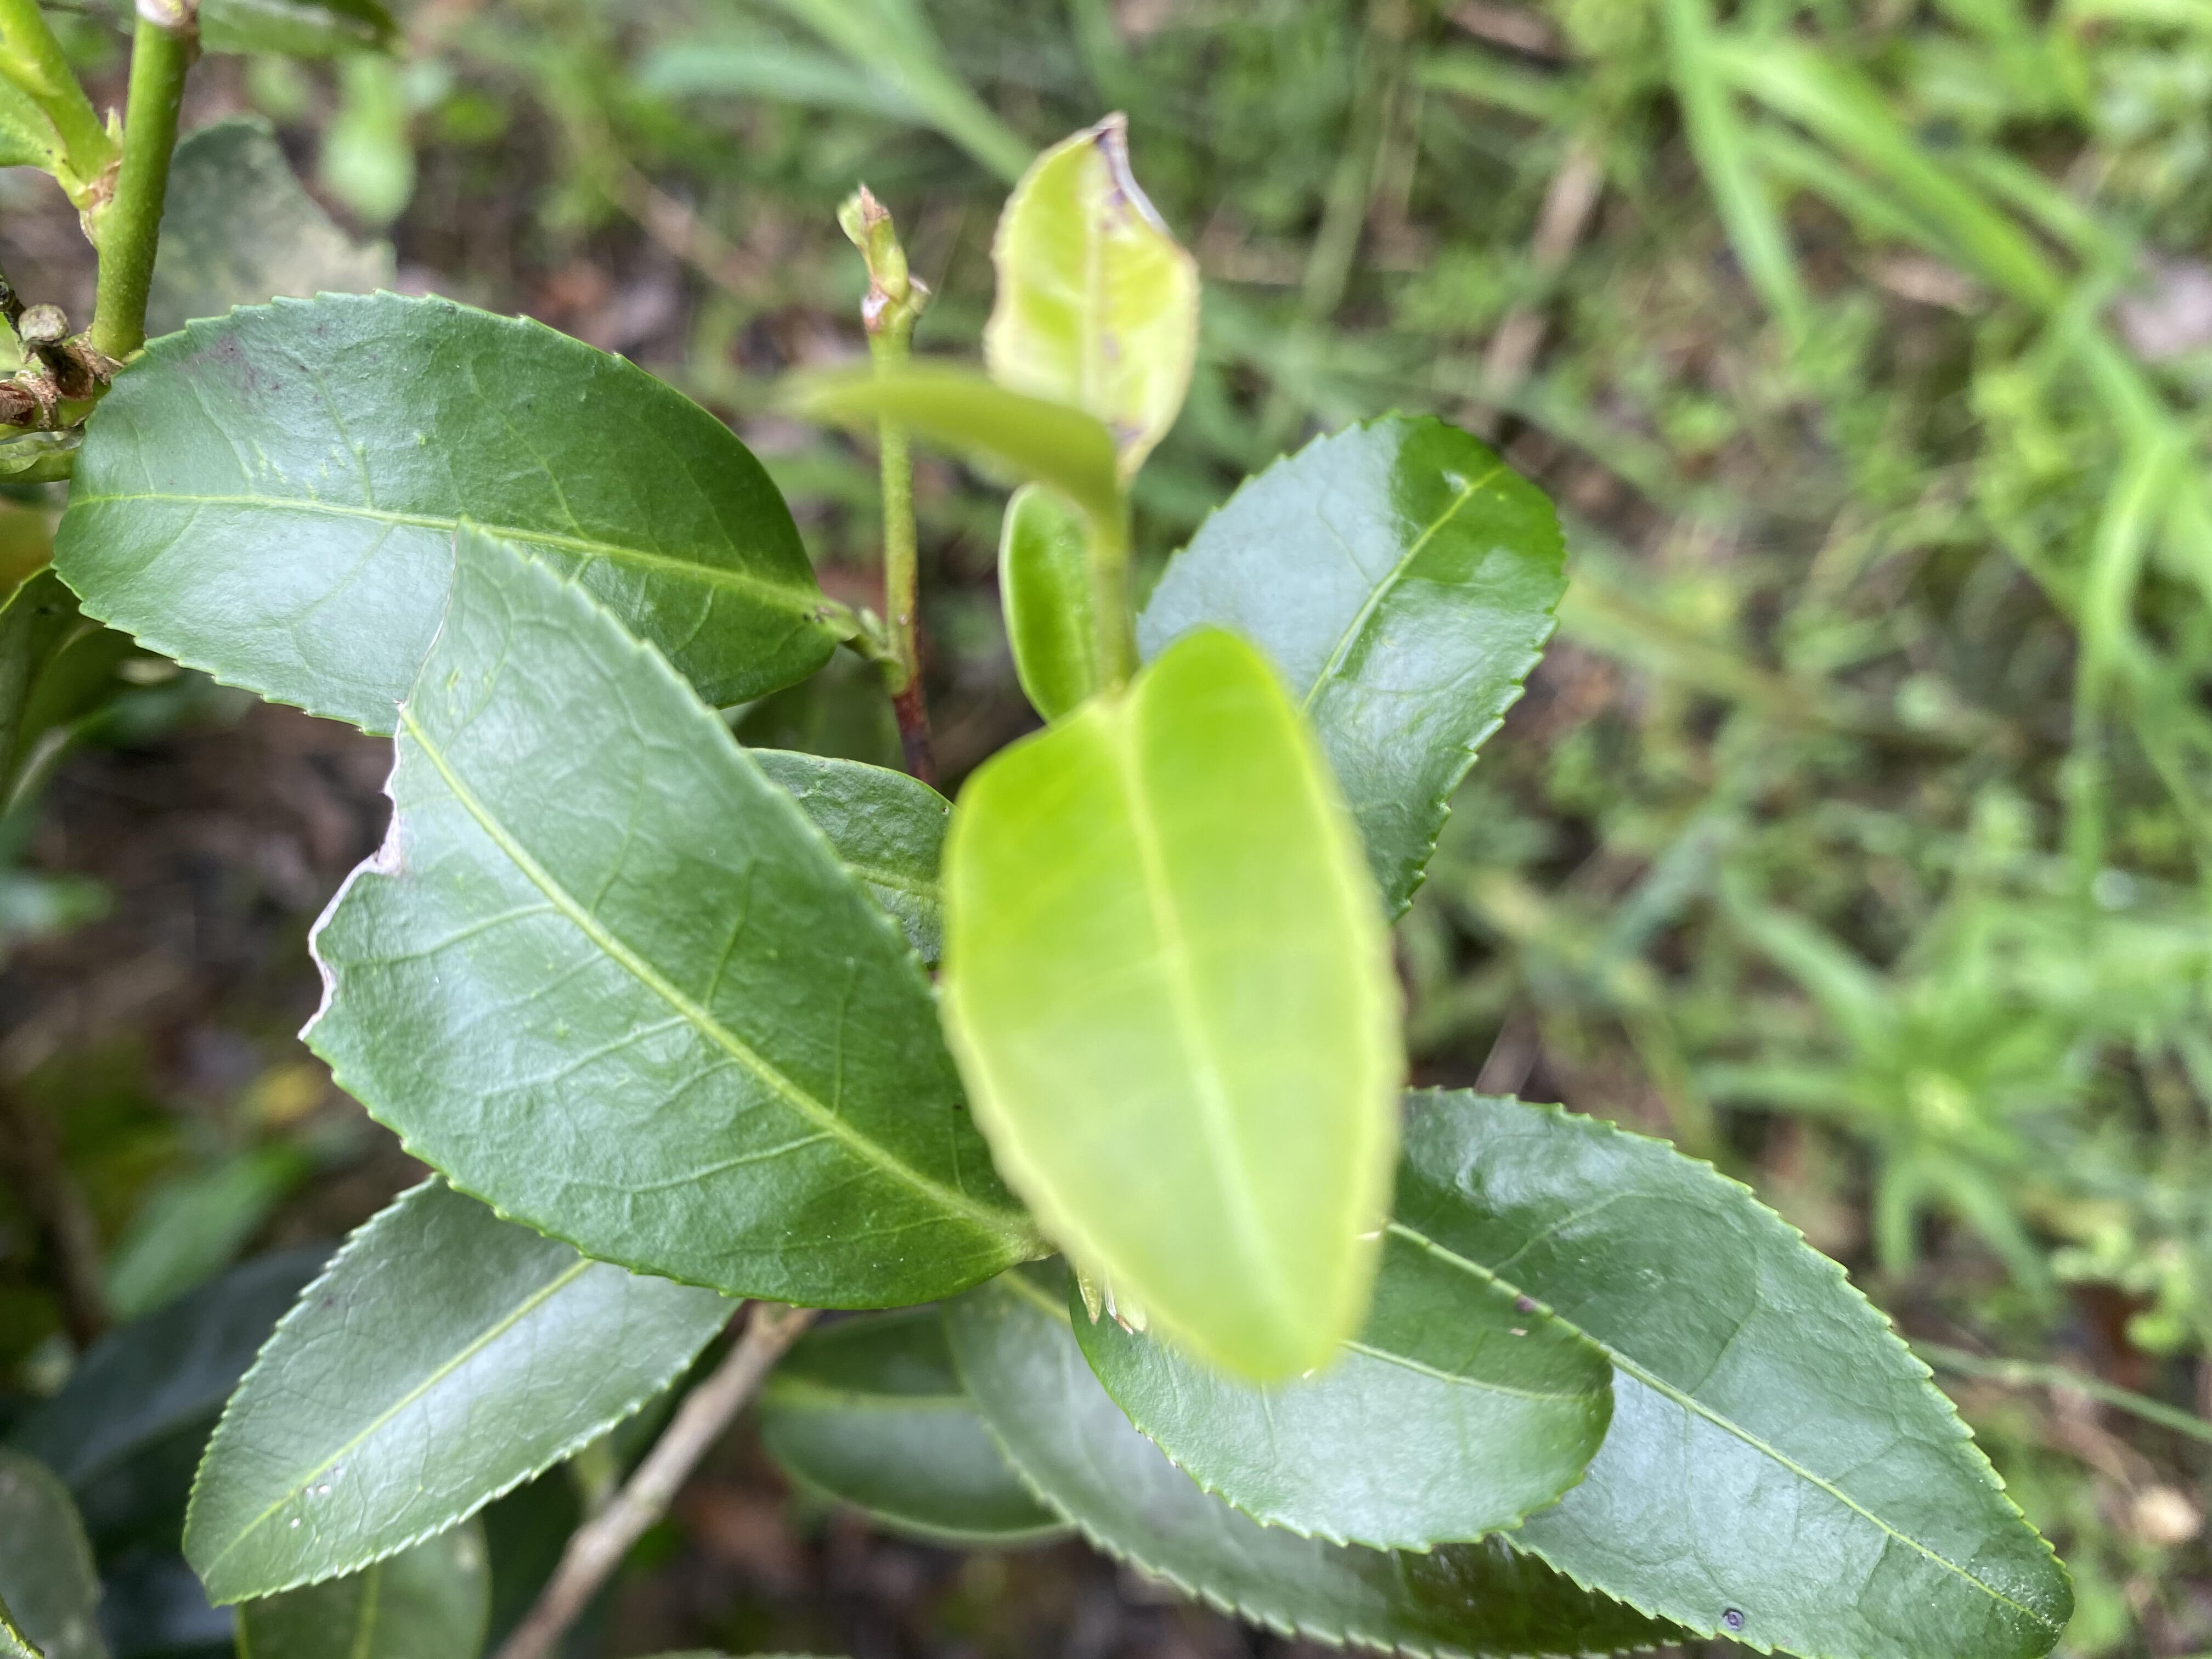chihuo_high: (293, 516, 1055, 1314)
healthy: (934, 626, 1413, 1392), (45, 291, 841, 734), (183, 1173, 751, 1605)
tanju_low: (977, 115, 1200, 476)
